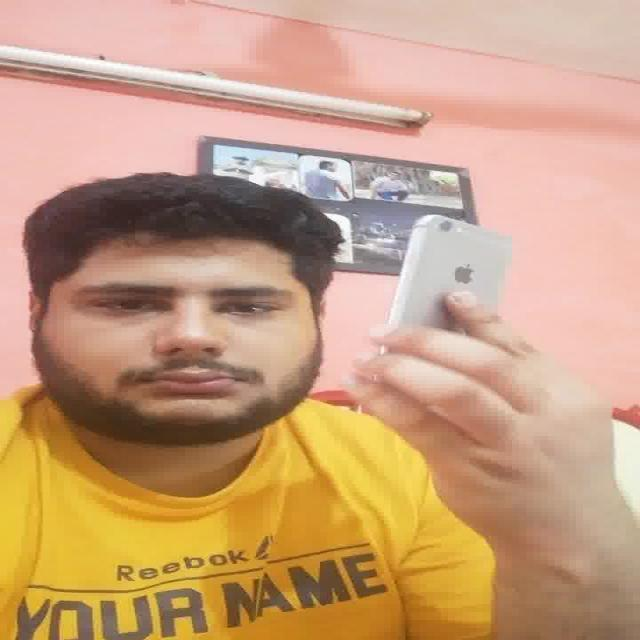Phone: (381, 212, 513, 335)
